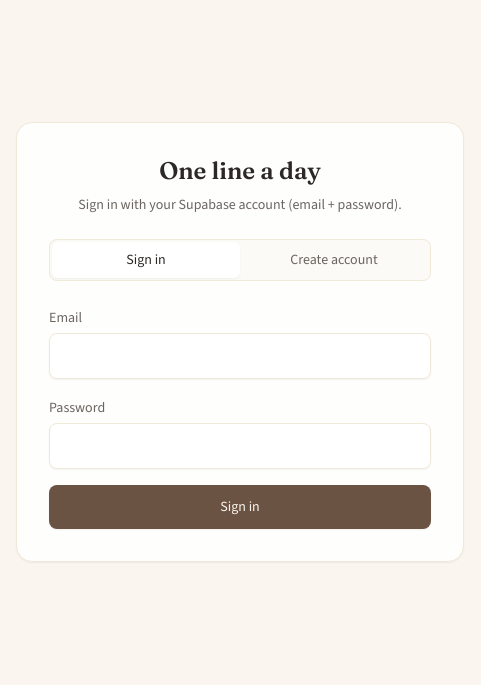
it: AuthScreen › submits sign-up credentials
Click the tab with aria-label "Show sign-up form": {"x": 334, "y": 260} 240,242 -> 428,278
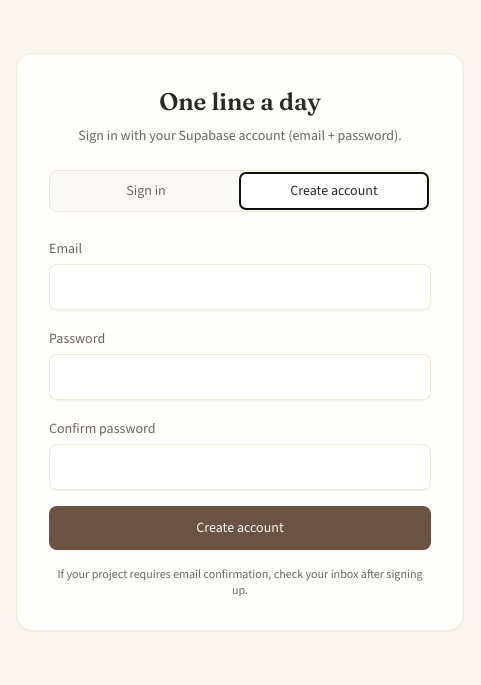
In the field labelled "Email": {"x": 240, "y": 287} 49,264 -> 431,310, type "new@example.com"
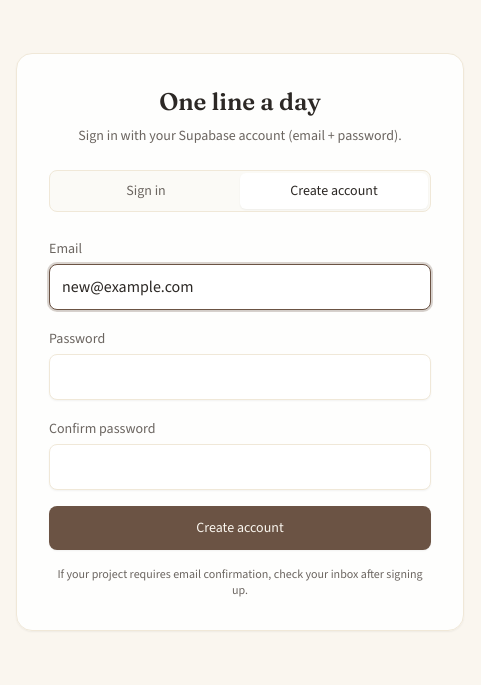
In the password field labelled "Password": {"x": 240, "y": 377} 49,354 -> 431,400, type "newpass1"
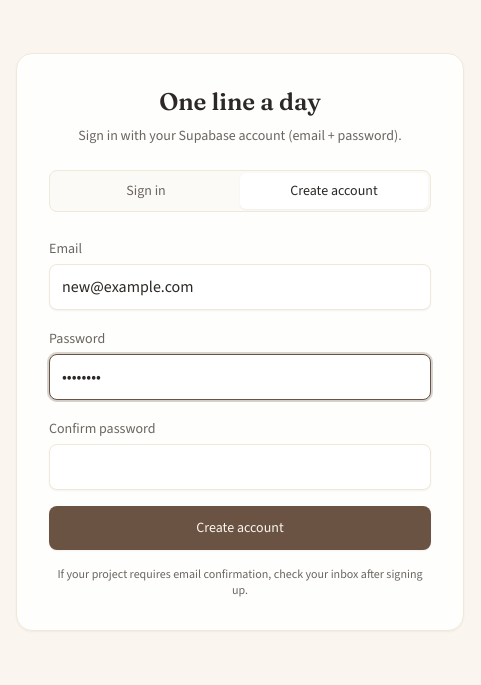
In the password field labelled "Confirm password": {"x": 240, "y": 467} 49,444 -> 431,490, type "newpass1"
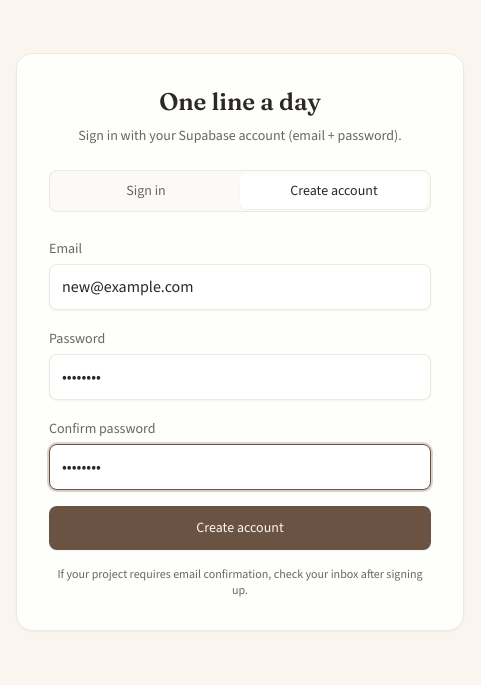
Click the button with aria-label "Submit registration": {"x": 240, "y": 528} 49,506 -> 431,550
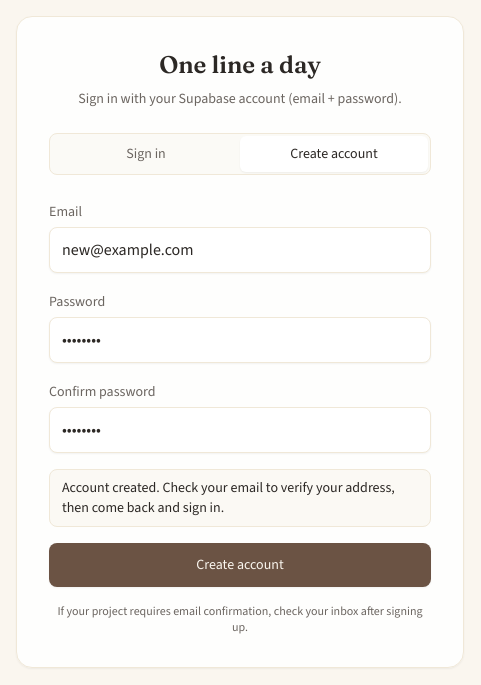
Expected: the text "Check your email to verify" is shown, 62,478 -> 395,517
